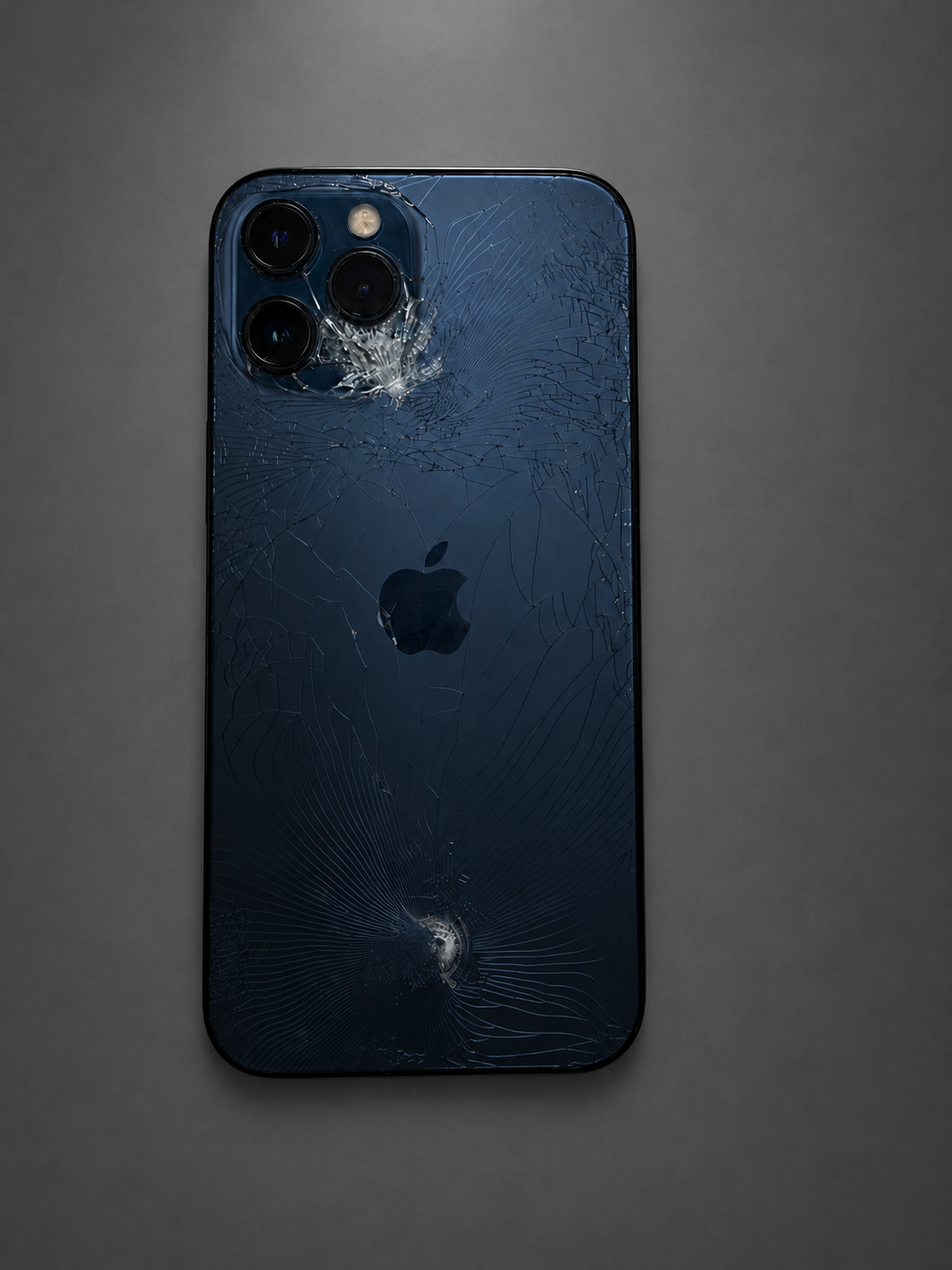iphone_12_pro_max_Crack: (175, 121, 693, 1160)
